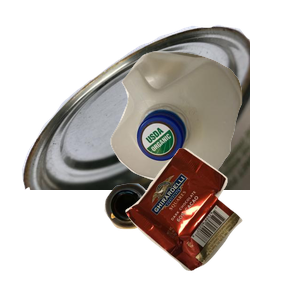glass: (102, 181, 246, 300)
metal: (19, 22, 259, 202)
plastic: (108, 49, 300, 226)
trash: (123, 145, 300, 300)
